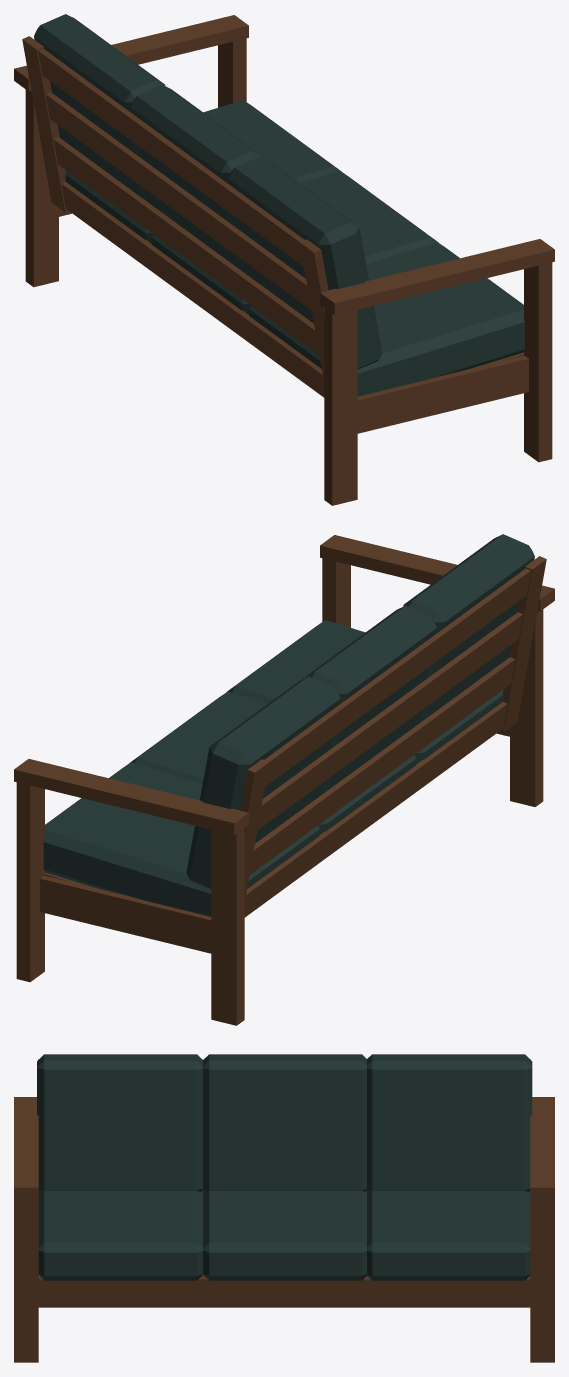
File: SM_Sofa_03.glb
The picture shows the model from 3 angles, top to bottom: view 1: azimuth 30°, elevation 25°; view 2: azimuth 150°, elevation 25°; view 3: azimuth 270°, elevation 25°; orthographic projection. The views are drawn at different scales.
Parts seen in each view (by area): view 1: SM_Sofa_03; view 2: SM_Sofa_03; view 3: SM_Sofa_03.
Part boxes in pixels (bbox=[...]): SM_Sofa_03: bbox=[14, 14, 554, 505]; SM_Sofa_03: bbox=[14, 534, 554, 1025]; SM_Sofa_03: bbox=[14, 1054, 554, 1362].
Bounding box in the file's own units: 0.8994 × 1.01 × 2.2.
2 materials, 1 textured.
